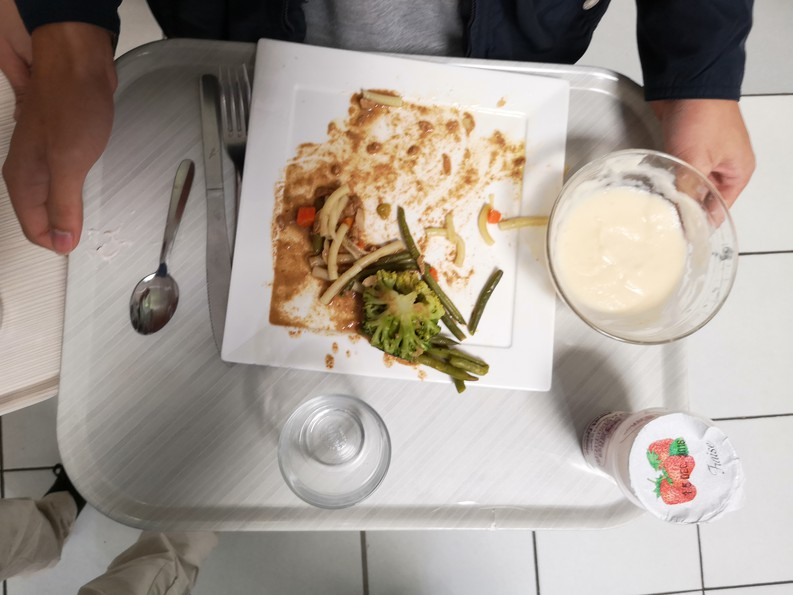cup: (268, 383, 396, 519)
cutlery: (185, 57, 258, 369), (106, 155, 204, 366)
orga: (569, 185, 675, 310), (294, 172, 381, 307), (360, 269, 446, 366), (385, 208, 463, 275)
trash: (570, 395, 754, 529)
